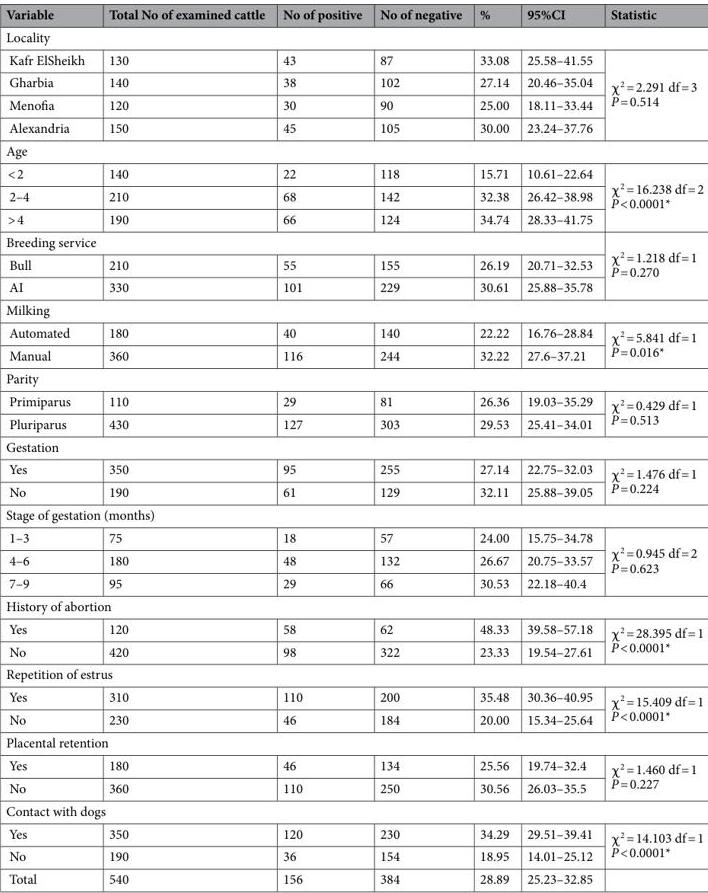table: (5, 4, 703, 888)
table column: (96, 4, 273, 888), (601, 4, 703, 888), (370, 4, 470, 888), (273, 4, 370, 888), (5, 4, 96, 888), (517, 4, 601, 888), (470, 4, 517, 888)
table column header: (5, 4, 703, 25)
table projected row header: (5, 25, 703, 48), (5, 139, 703, 162), (5, 298, 703, 321), (5, 366, 703, 389), (5, 503, 703, 526), (5, 594, 703, 617), (5, 662, 703, 685), (5, 799, 703, 822), (5, 435, 703, 457), (5, 731, 703, 753)
table row: (5, 25, 703, 48), (5, 48, 703, 71), (5, 93, 703, 116), (5, 116, 703, 139), (5, 139, 703, 162), (5, 184, 703, 207), (5, 207, 703, 230), (5, 230, 703, 253), (5, 275, 703, 298), (5, 298, 703, 321), (5, 321, 703, 344), (5, 366, 703, 389), (5, 389, 703, 412), (5, 412, 703, 435), (5, 457, 703, 480), (5, 480, 703, 503), (5, 503, 703, 526), (5, 548, 703, 571), (5, 571, 703, 594), (5, 594, 703, 617), (5, 617, 703, 640), (5, 662, 703, 685), (5, 685, 703, 708), (5, 708, 703, 731), (5, 753, 703, 776), (5, 776, 703, 799), (5, 799, 703, 822), (5, 844, 703, 867), (5, 71, 703, 93), (5, 162, 703, 184), (5, 253, 703, 275), (5, 344, 703, 366), (5, 435, 703, 457), (5, 526, 703, 548), (5, 640, 703, 662), (5, 731, 703, 753), (5, 822, 703, 844), (5, 4, 703, 25), (5, 867, 703, 888)
table spanning cell: (5, 230, 601, 253), (601, 48, 703, 139), (601, 162, 703, 230), (601, 230, 703, 298), (601, 526, 703, 594), (601, 389, 703, 435), (601, 457, 703, 503), (601, 685, 703, 731), (601, 753, 703, 799), (601, 321, 703, 366), (601, 617, 703, 662), (601, 822, 703, 867)
